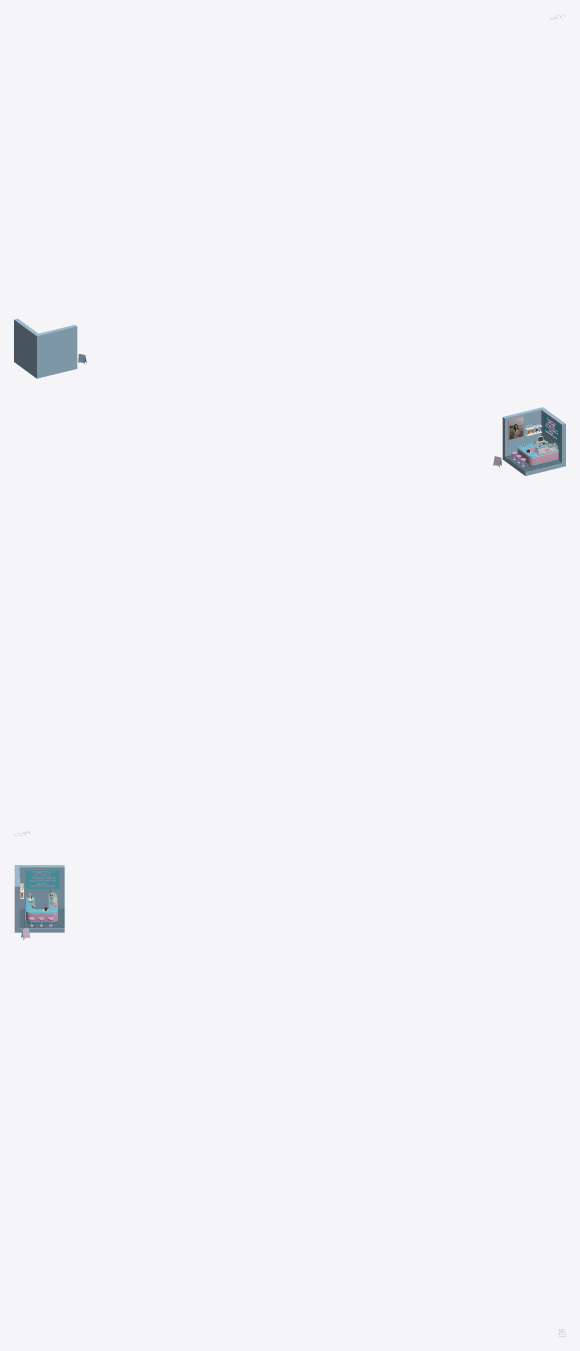
File: shopp.glb
The picture shows the model from 3 angles, top to bottom: view 1: azimuth 30°, elevation 25°; view 2: azimuth 210°, elevation 25°; view 3: azimuth 270°, elevation 25°; orthographic projection. The views are drawn at different scales.
Visible parts, largest first — view 1: Cube; view 2: Cube, Plane; view 3: Cube, Plane.005.
Part boxes in pixels (x1,y1,x2,y2): Cube: [14, 318, 77, 378]; Cube: [502, 407, 565, 475]; Plane: [517, 439, 558, 466]; Cube: [14, 865, 64, 932]; Plane.005: [25, 870, 59, 888].
Bounding box in the file's own units: 94.24 × 6.22 × 53.21.
28 materials, 1 textured.
